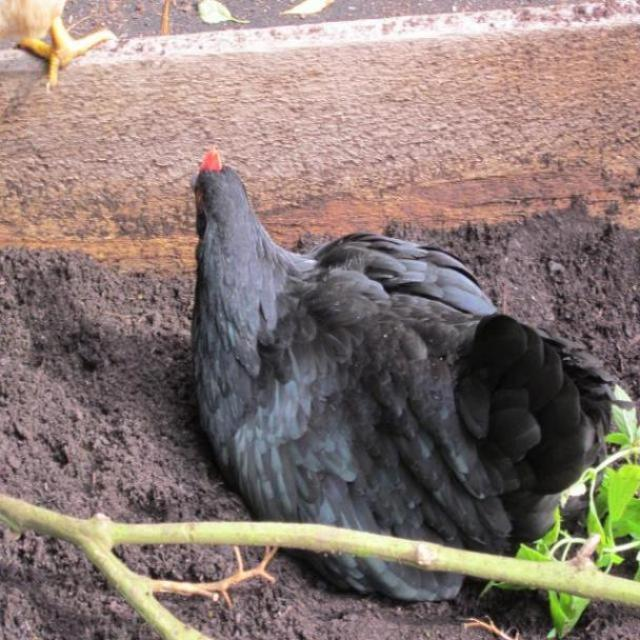Chicken: (189, 145, 606, 604)
